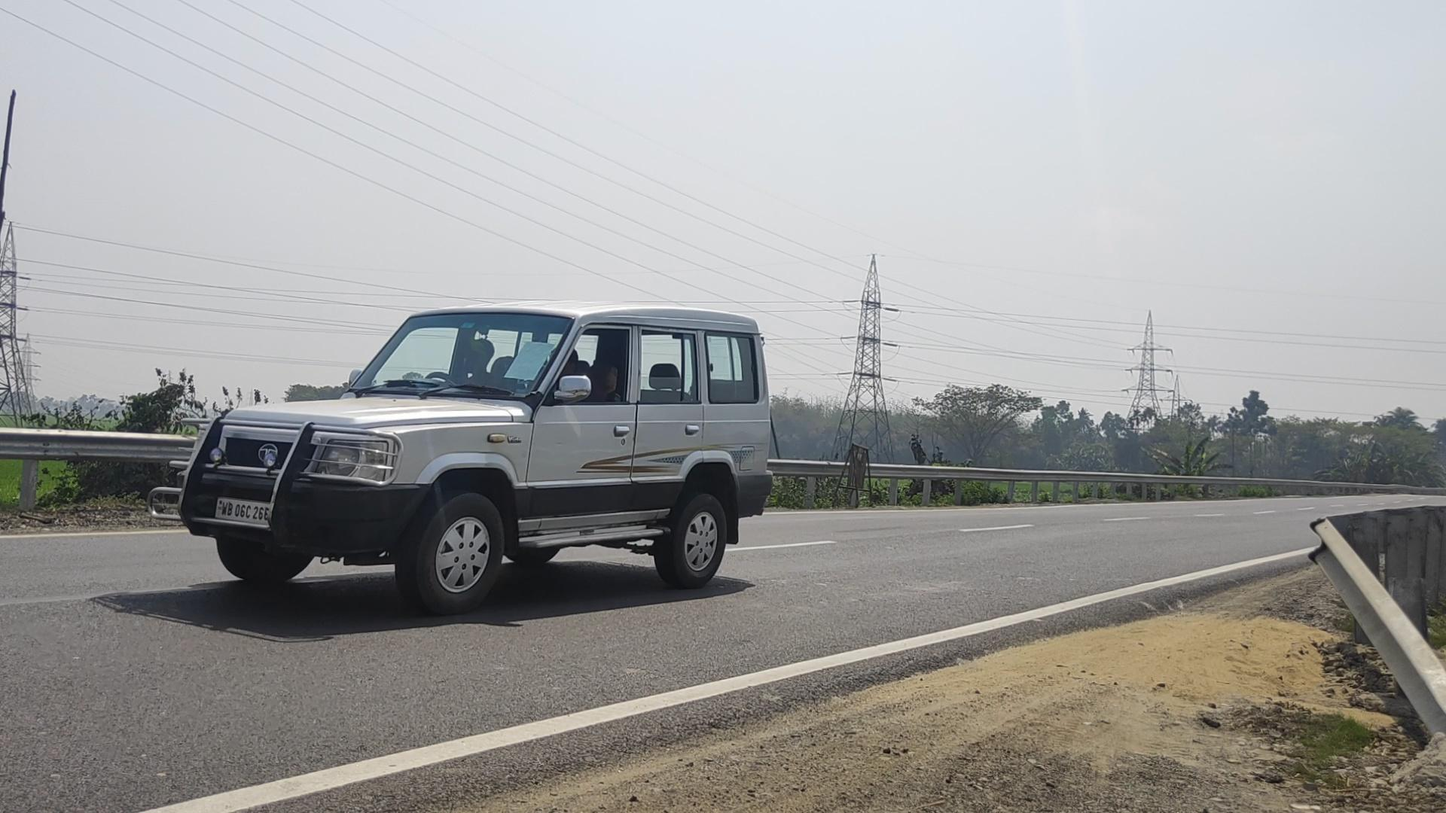car: (148, 302, 774, 617)
